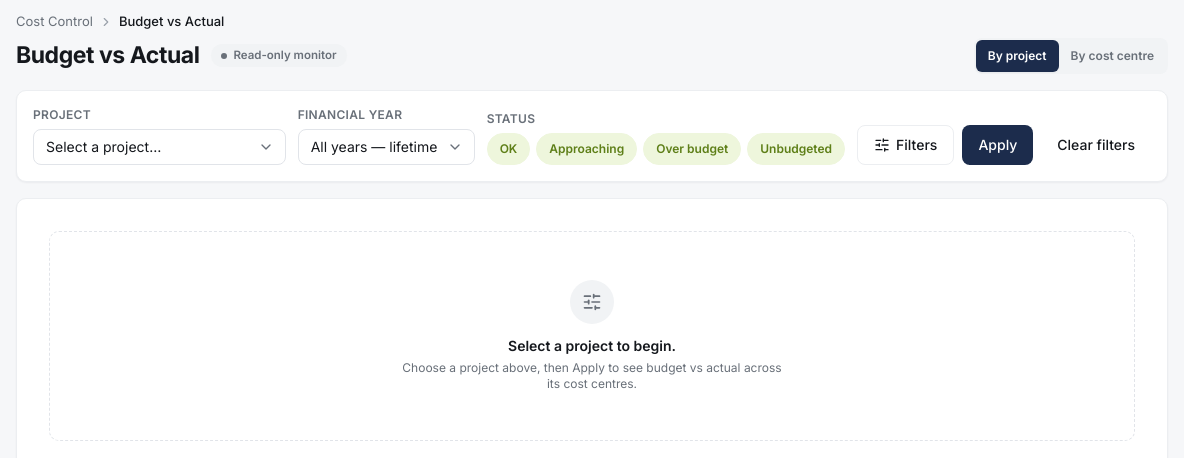
Test case: BudgetVsActualScreen — amounts + status (FR-CC-006/007/011/012/015) › renders budgeted/actual and an em-dash budget for an unbudgeted row
Select "BR-04 — Bridge-04 — Buriganga" in the dropdown with test id "bva-project" at (159, 146), box [33, 128, 286, 164]
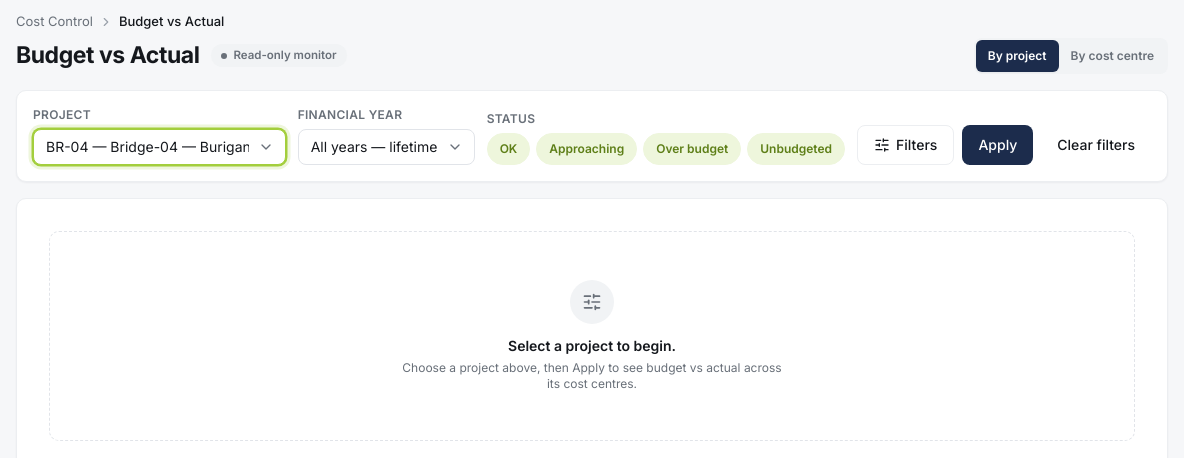
Click the button with test id "bva-apply" at (998, 144), box [962, 124, 1033, 164]
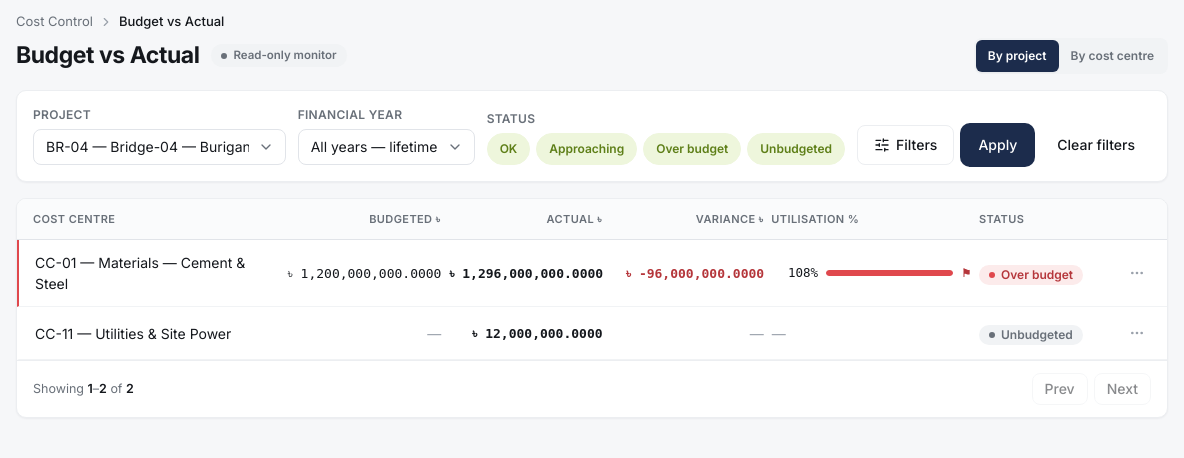
Check: the element with test id "bva-table" is shown, box [17, 198, 1167, 360]
Check: the text "৳ 1,296,000,000.0000" is shown, box [450, 266, 603, 281]
Check: the 1st text "—" is shown, box [427, 324, 441, 342]
